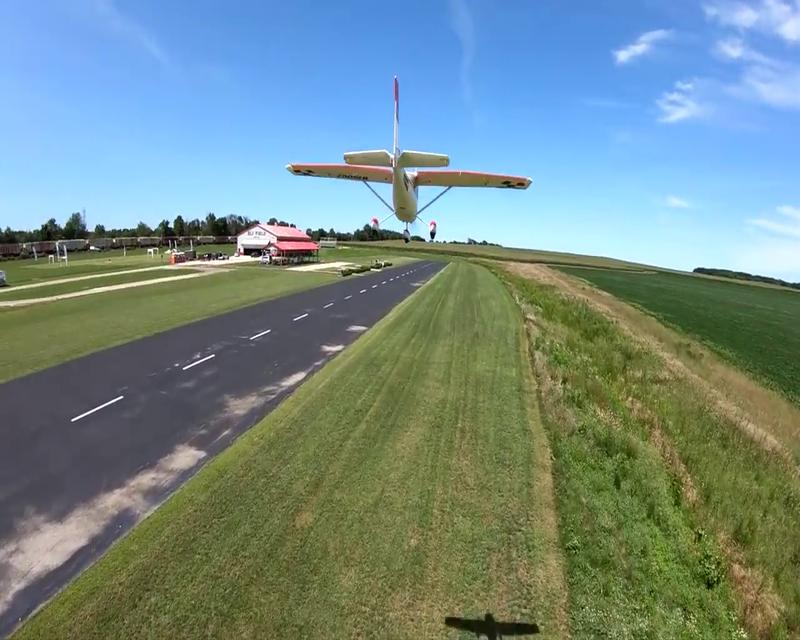UAV: (285, 76, 534, 243)
